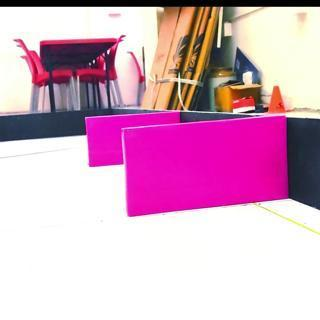xparking: (124, 128, 288, 211), (88, 116, 120, 168)
